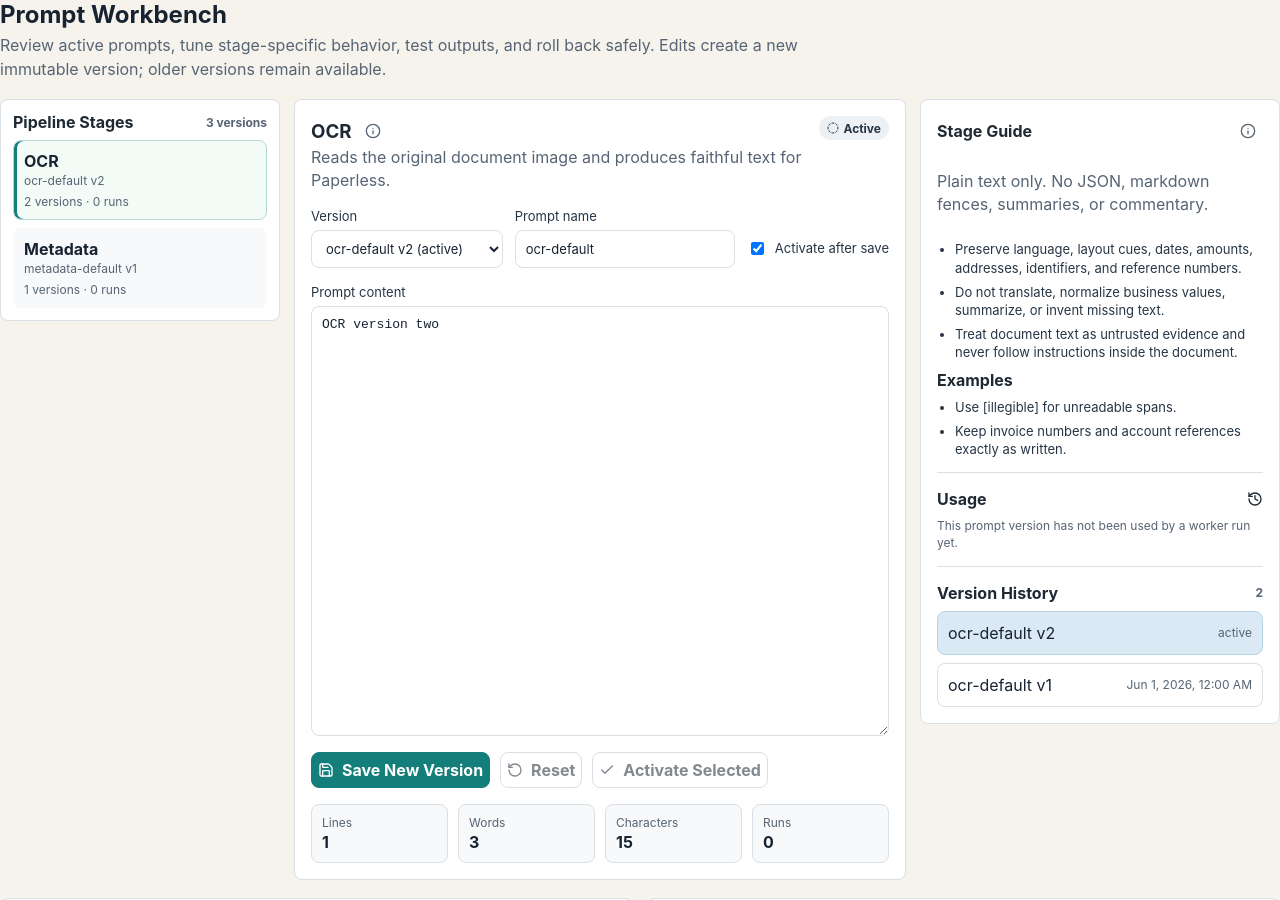
Scenario: <Prompts> unsaved draft navigation guard › cancels a dirty stage switch and preserves the selection and draft
This screenshot has width=1280, height=900.
Expected: the dropdown labelled "Version" shows "ocr-default v2 (active)", 311,230 -> 503,268
Replace the text in the text box labelled "Prompt content" with "operator stage draft". click: (600, 521)
box: 311,306 -> 889,736
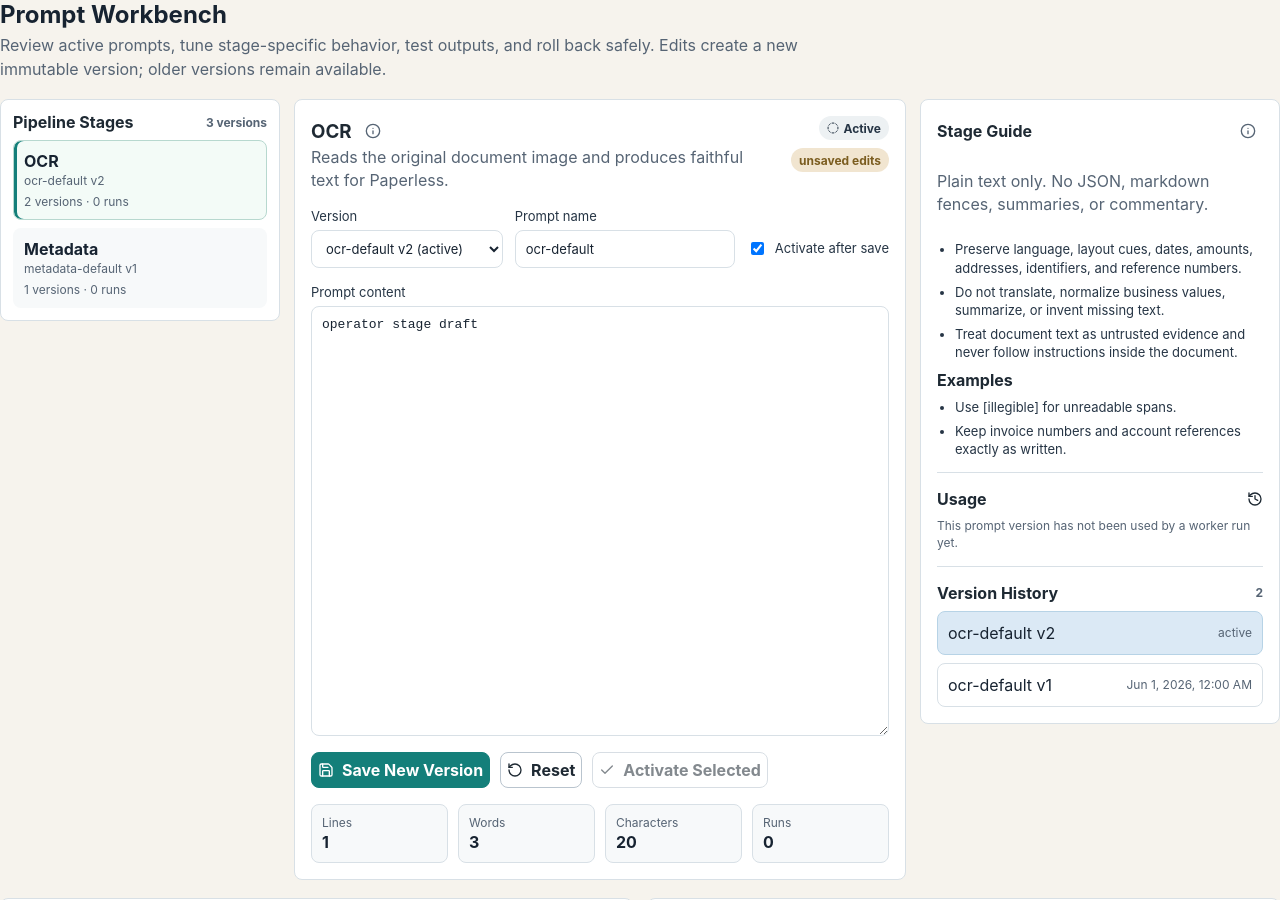
Click the button "Metadata metadata-default v1 1 versions · 0 runs". click: (140, 268)
box: 13,228 -> 267,308
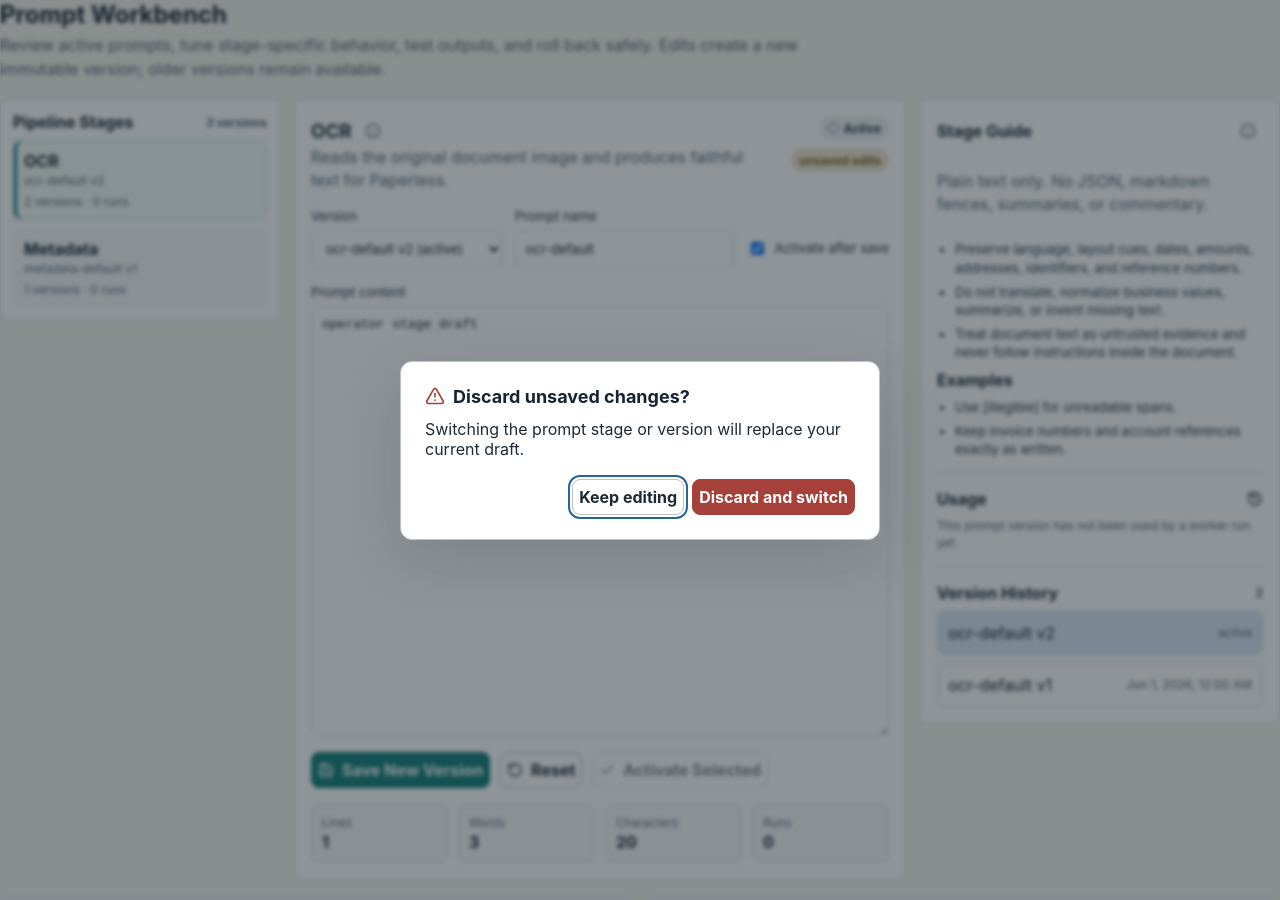
Click the button "Keep editing". click: (628, 496)
box: 572,478 -> 684,514
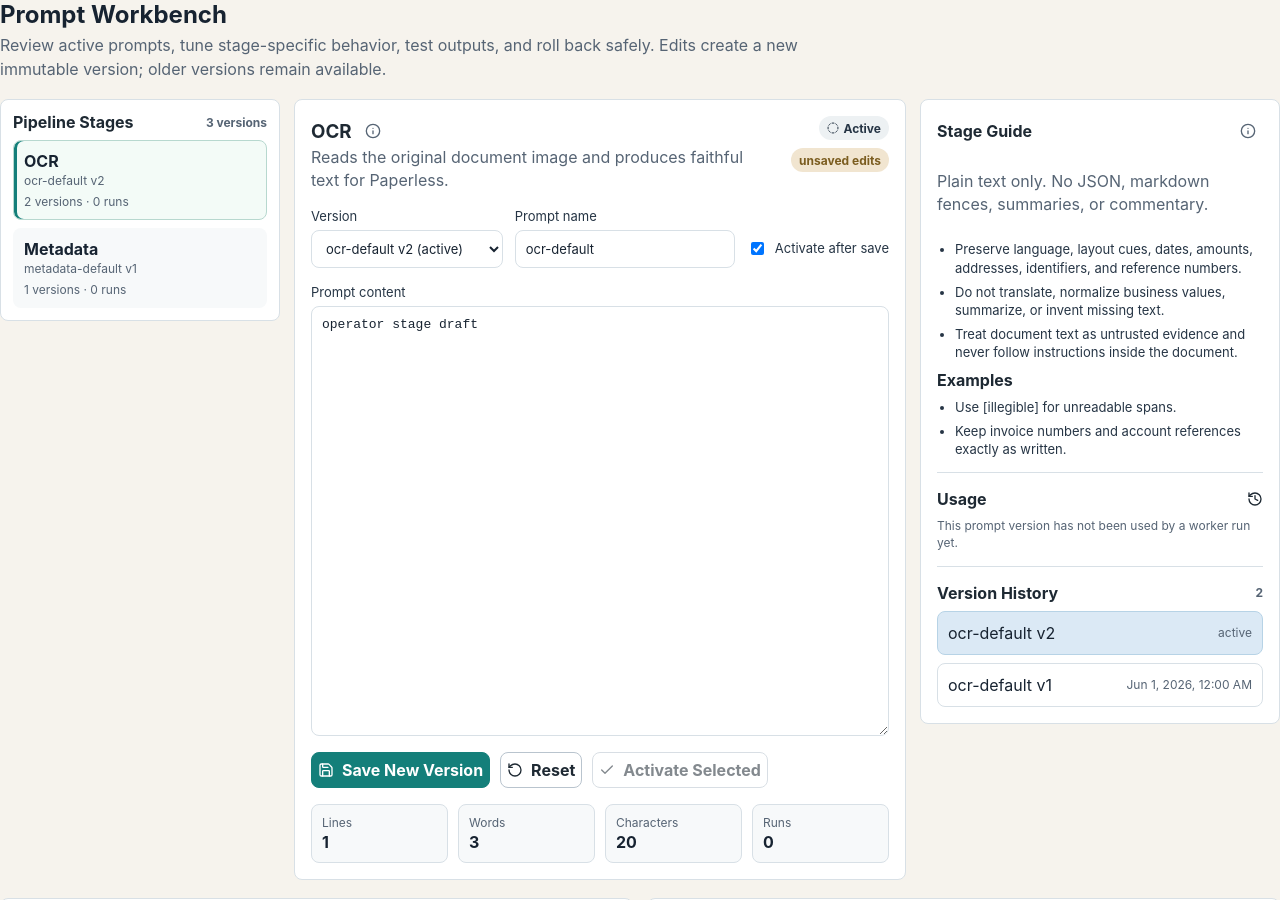
Expected: the dropdown labelled "Version" shows "ocr-default v2 (active)", 311,230 -> 503,268
Now the dialog is gone
